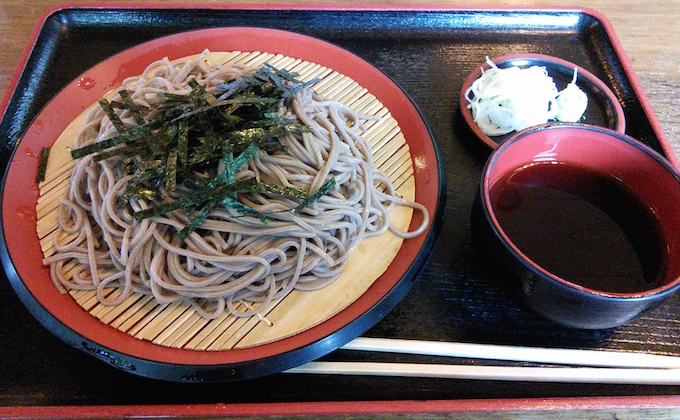Soba: (55, 60, 412, 321)
